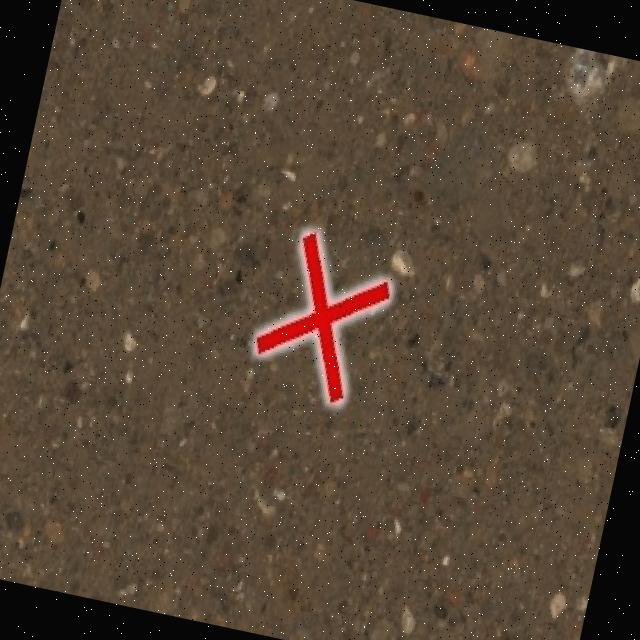x_marker: (247, 226, 398, 407)
